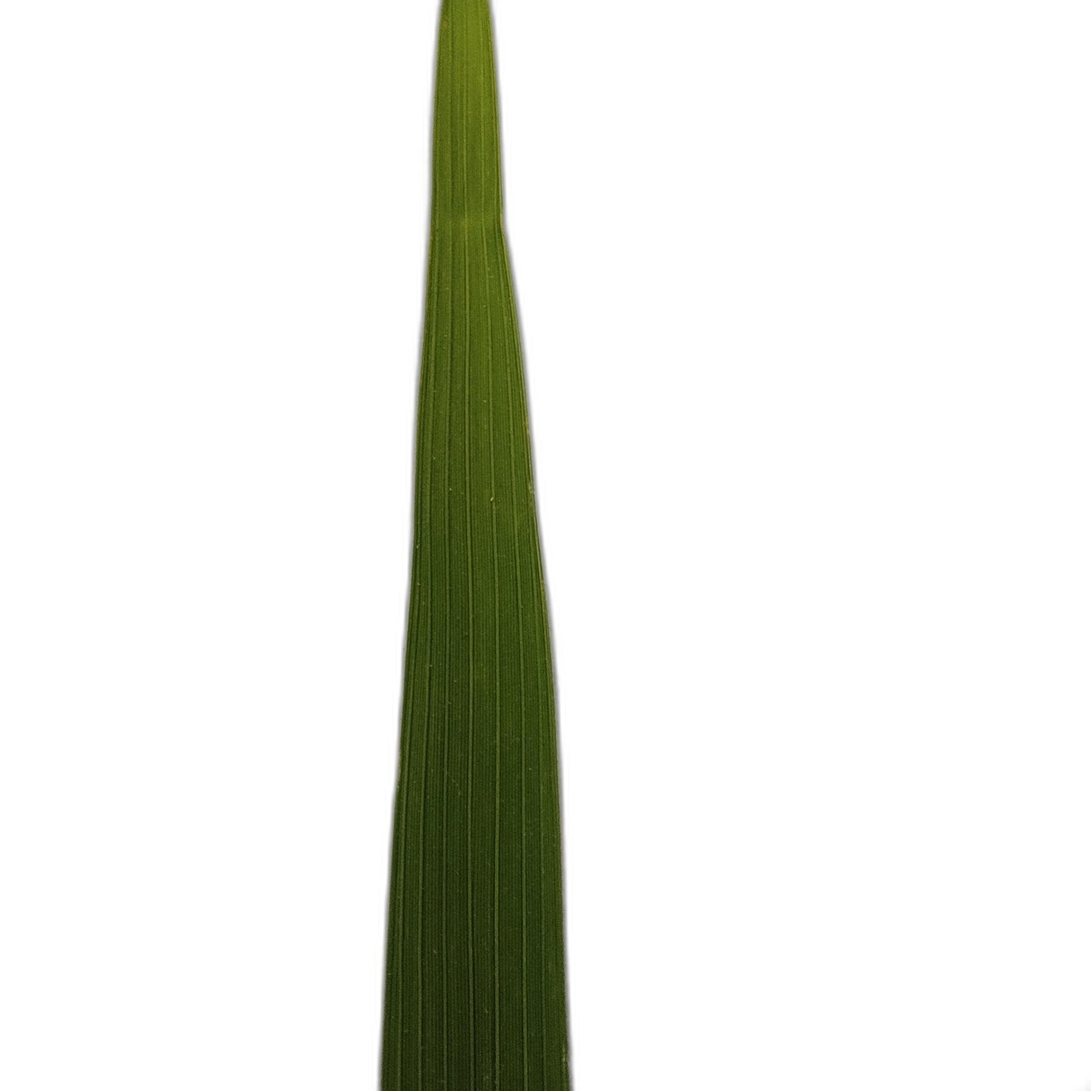Healthy: (381, 0, 569, 1090)
